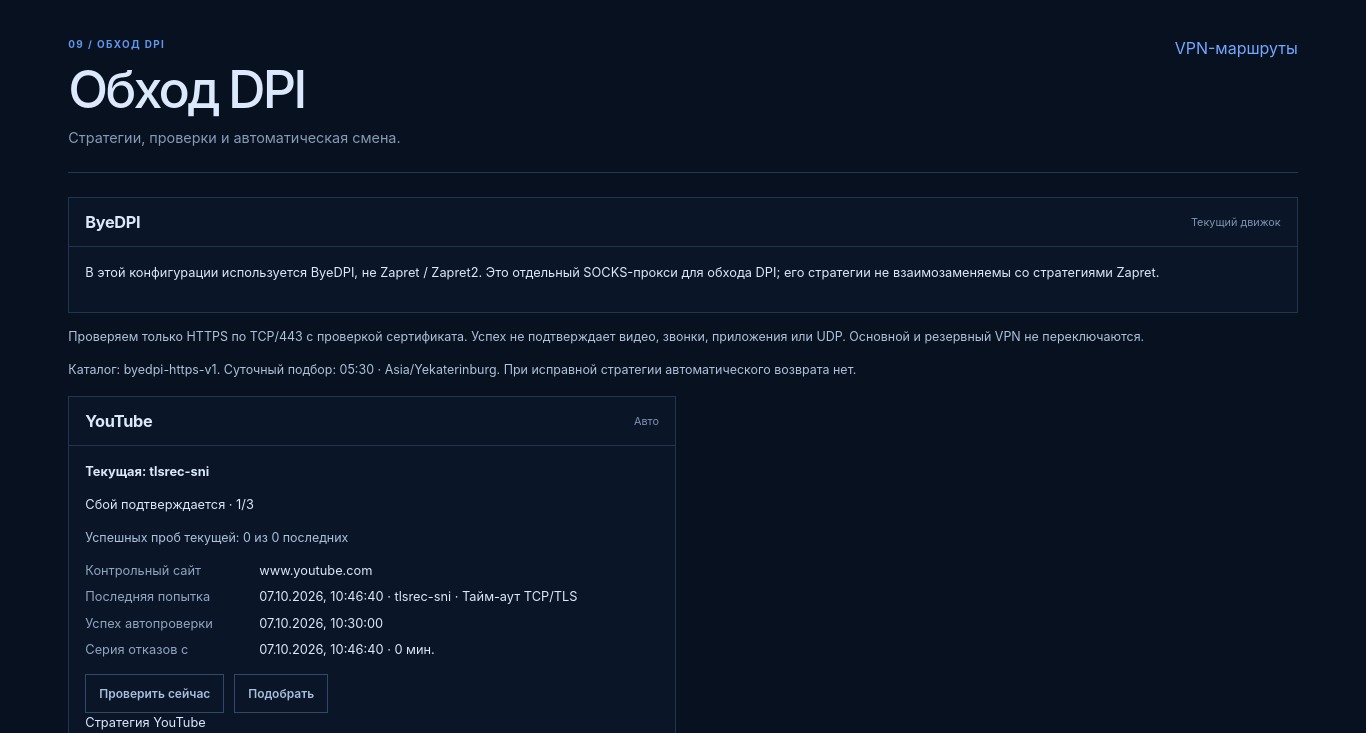
lost response restores exact job and never repeats submit
Click the button with aria-label "Подобрать для YouTube".
click(281, 693)  # box [234,674,328,713]
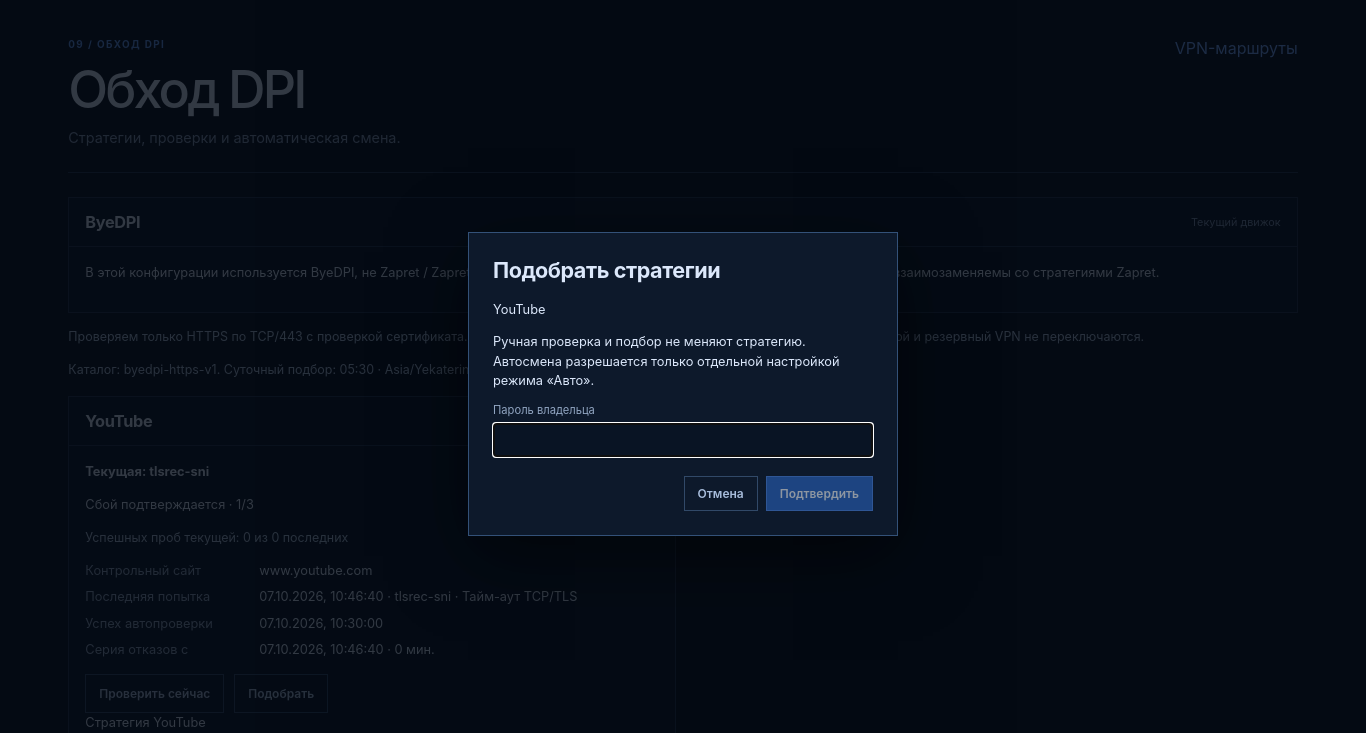
Type "local-test-password" into the password field labelled "Пароль владельца".
click(683, 440); type("local-test-password")  # box [493,423,873,457]
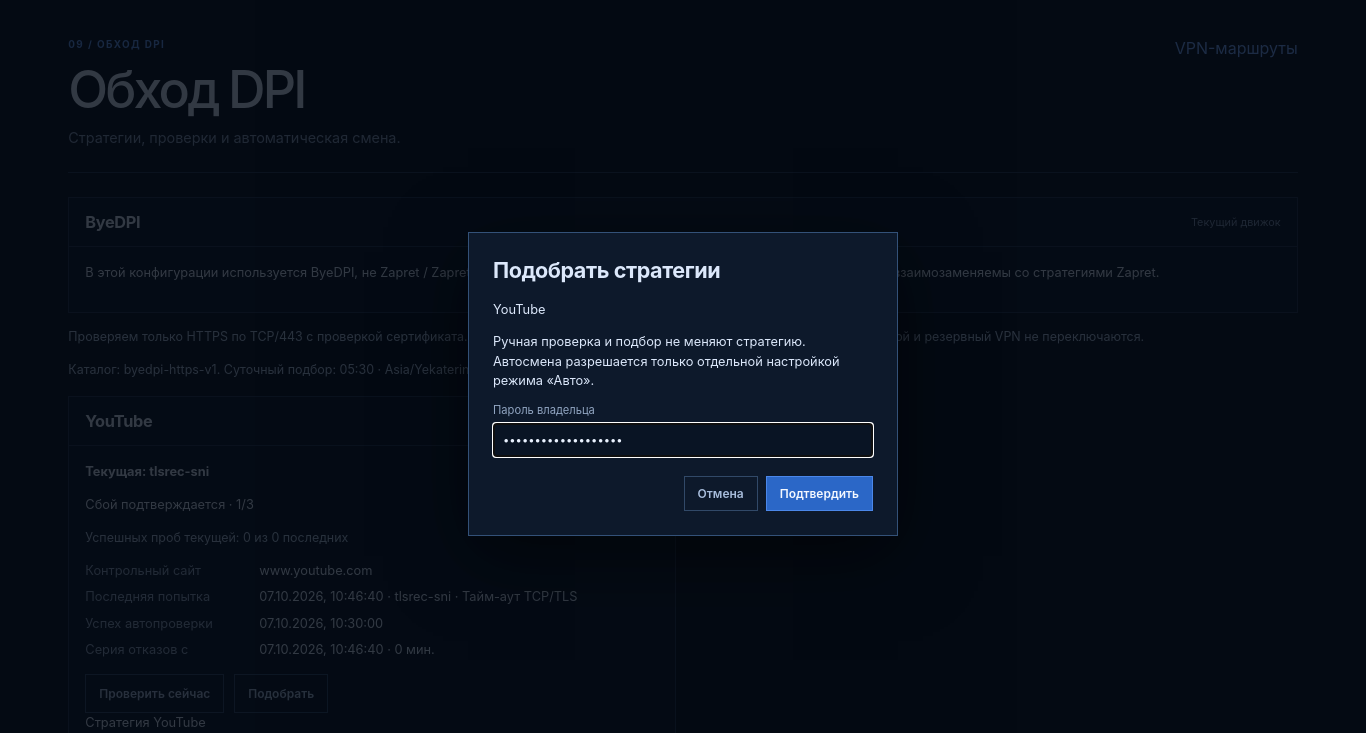
Click the button "Подтвердить".
click(819, 493)  # box [766,476,873,511]
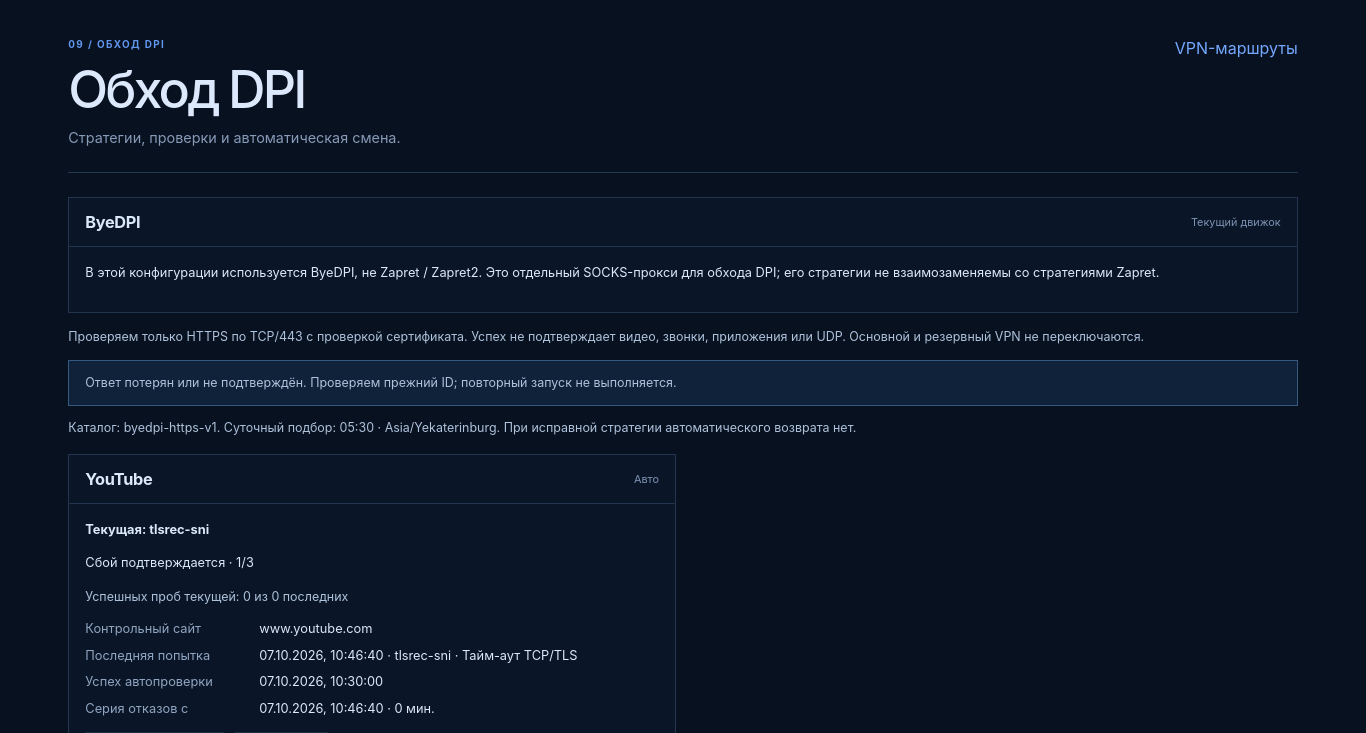
Result: the text "Ответ потерян" is shown at [85,375,676,390]
